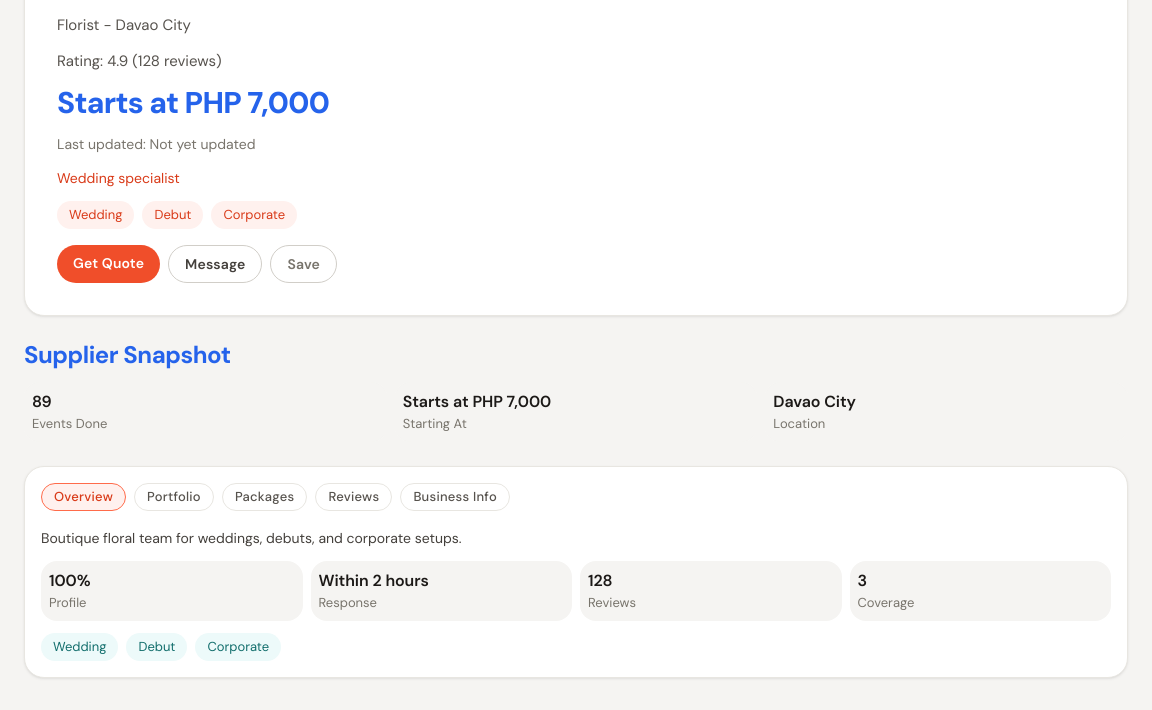
Marketplace pages smoke › renders supplier detail CTAs and tab content
This screenshot has width=1152, height=710.
(page scrolled)
Expected: the link "Get Quote" is shown, [57,245,160,283]
Expected: the link "Message" is shown, [168,245,262,283]
Click the button "Packages" at (265, 497), box [222,483,307,511]
(page scrolled)
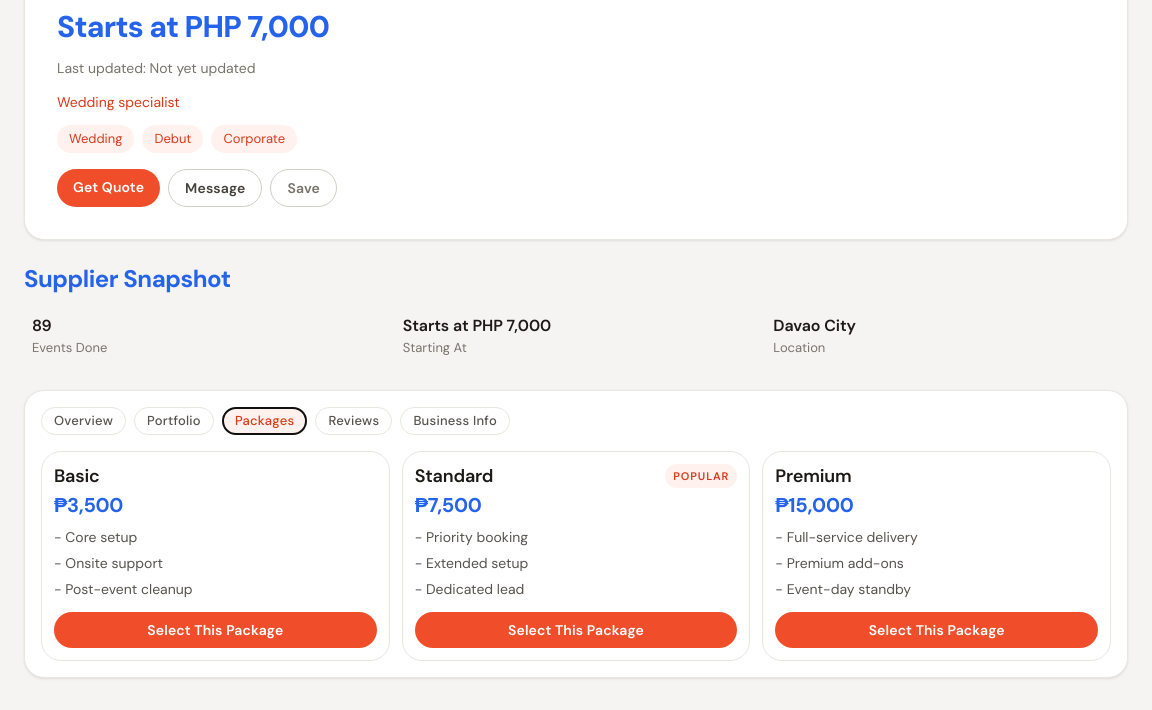
Now the button "Select This Package" below "Post-event cleanup" is shown, box [54,612,377,648]
